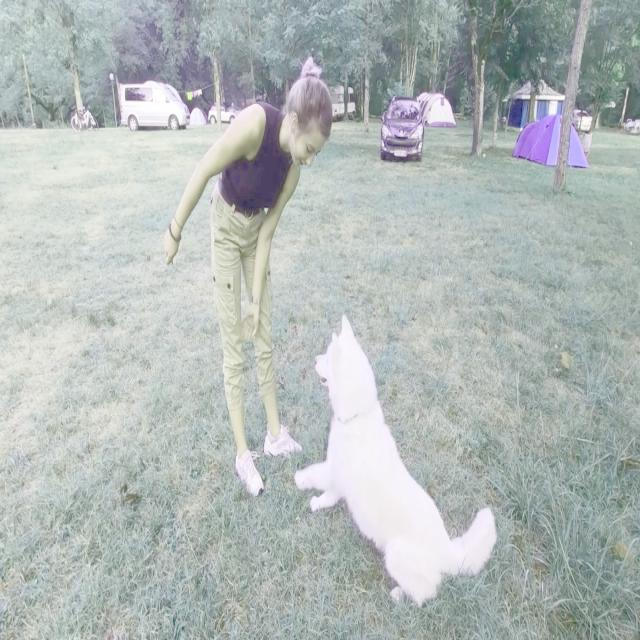Unleashed_Dog: (223, 201, 497, 609)
